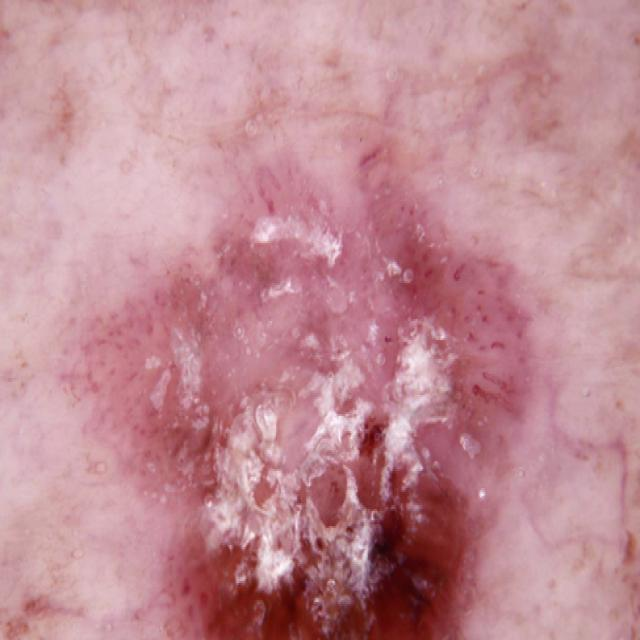Carcinoma: (45, 108, 623, 640)
